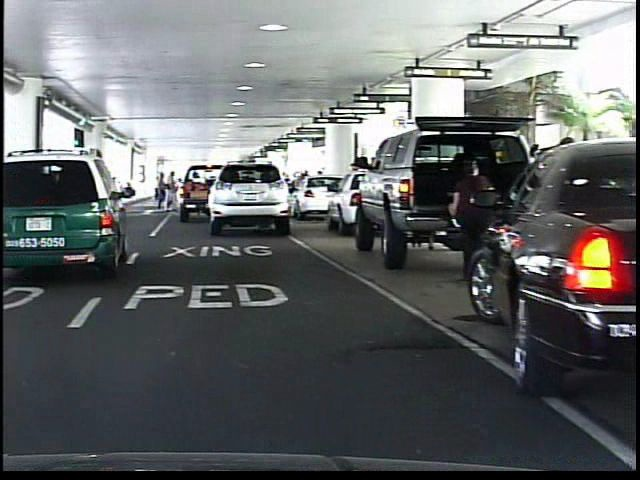person: (440, 154, 497, 277)
